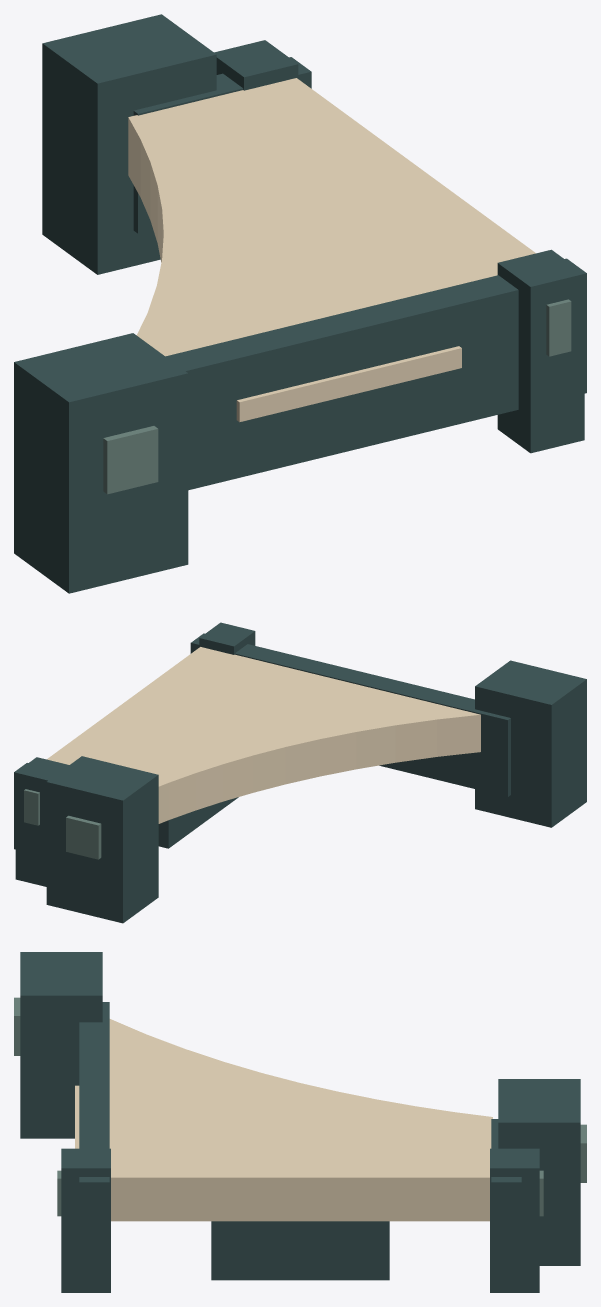
File: Pier_Angled_30.glb
3 views of the same model, one above another, from view 1: azimuth 30°, elevation 25°; view 2: azimuth 150°, elevation 25°; view 3: azimuth 270°, elevation 25° (orthographic). The views are drawn at different scales.
Parts seen in each view (by area): view 1: Pier_Angled_30; view 2: Pier_Angled_30; view 3: Pier_Angled_30.
Part boxes in pixels (<box>): Pier_Angled_30: <box>14,14,586,593</box>; Pier_Angled_30: <box>14,622,586,923</box>; Pier_Angled_30: <box>14,952,586,1292</box>.
Size of the model in its own units: 3.51 by 1.15 by 4.17.
